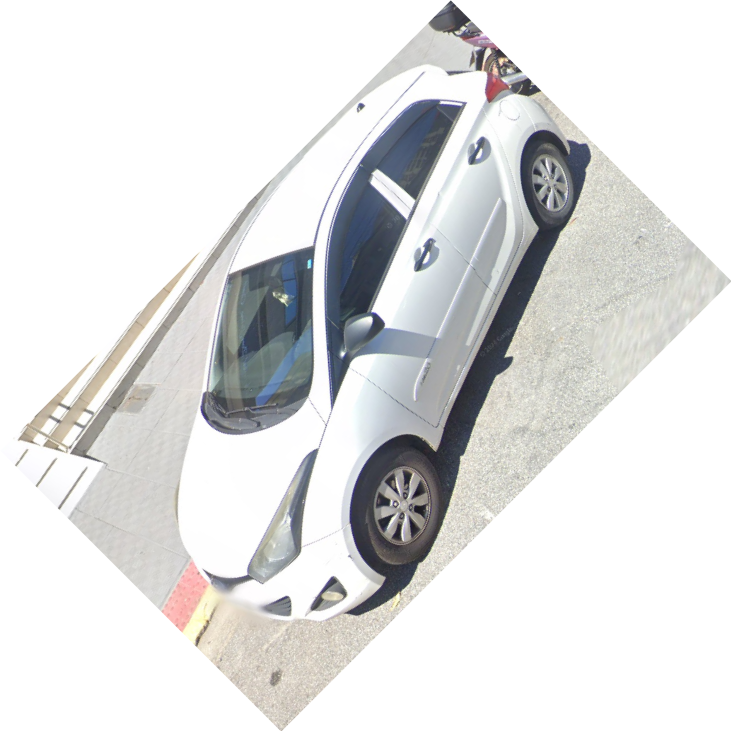car: (176, 64, 577, 623)
